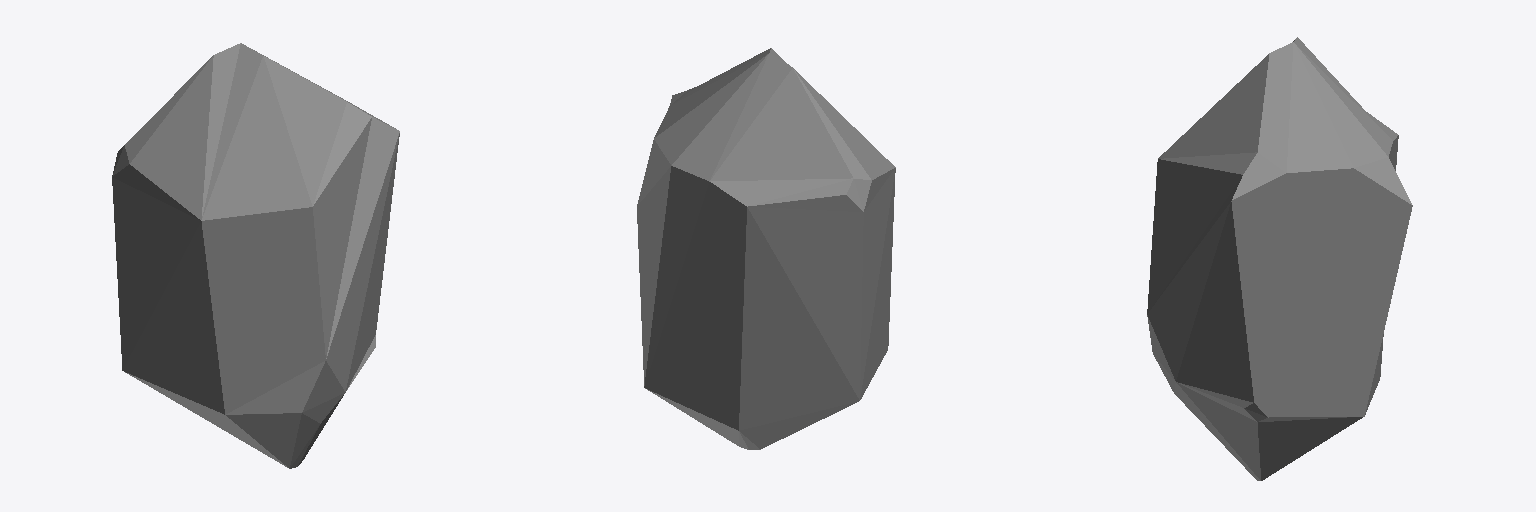
3 renders of one model, left to right at view 1: azimuth 30°, elevation 25°; view 2: azimuth 150°, elevation 25°; view 3: azimuth 270°, elevation 25°, orthographic.
Visible parts, largest first — view 1: crystal_a1; view 2: crystal_a1; view 3: crystal_a1.
Part boxes in pixels (left/top/right/bottom): crystal_a1: left=112, top=43, right=399, bottom=468; crystal_a1: left=637, top=48, right=895, bottom=449; crystal_a1: left=1147, top=37, right=1412, bottom=480.
Bounding box in the file's own units: 1.82 × 3.06 × 1.75.